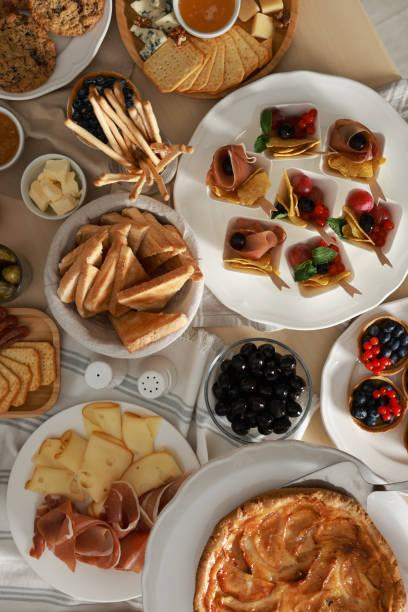Braised Crucian Carp: (172, 72, 408, 326), (5, 402, 198, 597), (44, 192, 202, 355)
